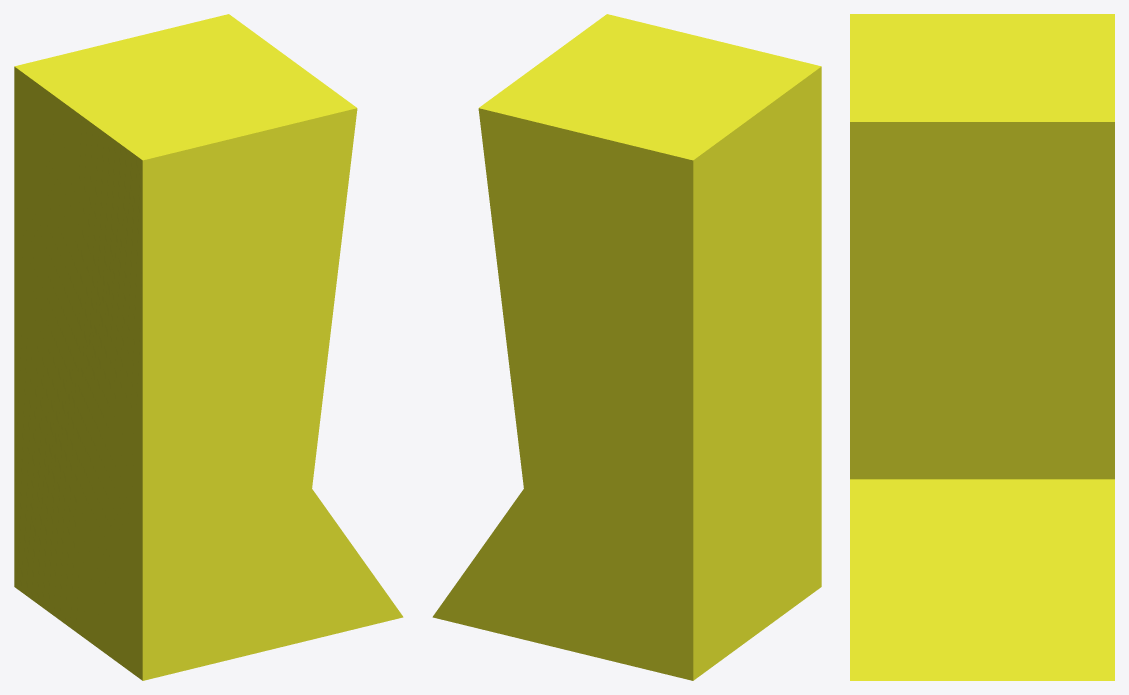
File: x_skala_crash_83.fbx
The picture shows the model from 3 angles, left to right: view 1: azimuth 30°, elevation 25°; view 2: azimuth 150°, elevation 25°; view 3: azimuth 270°, elevation 25°; orthographic projection. The views are drawn at different scales.
Visible parts, largest first — view 1: x_skala_crash_83_1; view 2: x_skala_crash_83_1; view 3: x_skala_crash_83_1.
Part boxes in pixels (x1=…): x_skala_crash_83_1: x1=14, y1=14, x2=403, y2=680; x_skala_crash_83_1: x1=432, y1=14, x2=821, y2=680; x_skala_crash_83_1: x1=850, y1=14, x2=1114, y2=680.
Size of the model in its own units: 1.23 by 2.34 by 1.05.
